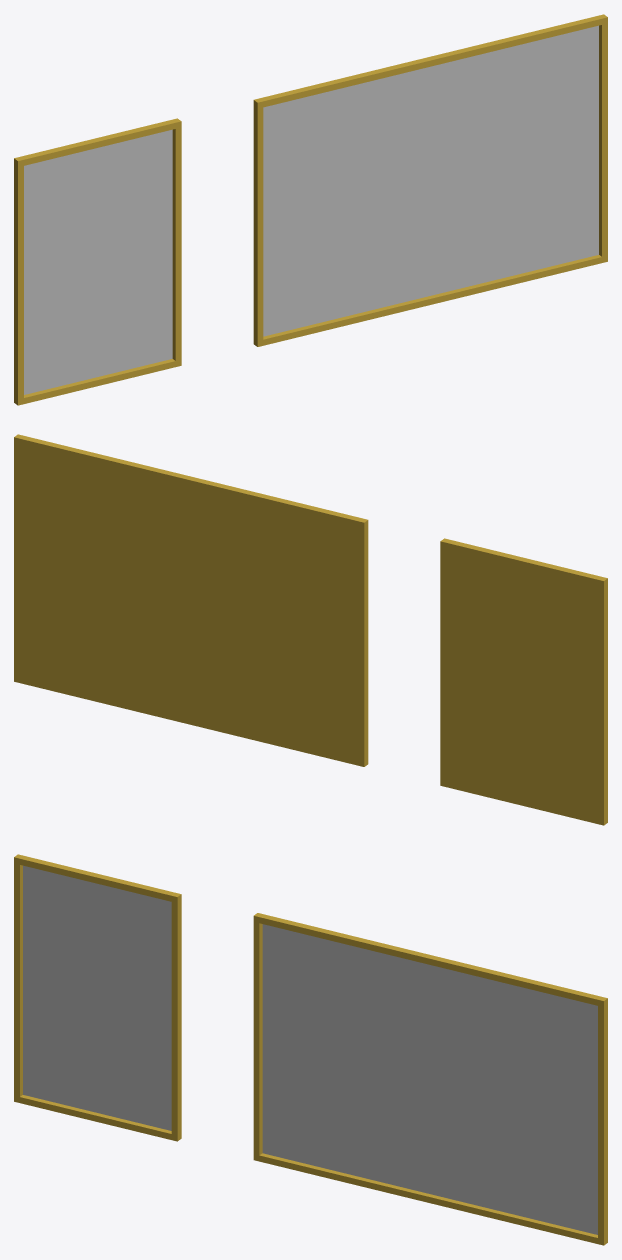
The model's file is Coffee Menus.fbx.
The picture shows the model from 3 angles, top to bottom: view 1: azimuth 30°, elevation 25°; view 2: azimuth 150°, elevation 25°; view 3: azimuth 330°, elevation 25°; orthographic projection.
Visible parts, largest first — view 1: Coffee_Menu_2, Coffee_Menu_1; view 2: Coffee_Menu_2, Coffee_Menu_1; view 3: Coffee_Menu_2, Coffee_Menu_1.
Part boxes in pixels (x1,y1,x2,y2): Coffee_Menu_2: (253,14,607,346); Coffee_Menu_1: (14,118,181,405); Coffee_Menu_2: (14,434,368,766); Coffee_Menu_1: (440,538,607,825); Coffee_Menu_2: (253,913,607,1245); Coffee_Menu_1: (14,854,181,1141).
Bounding box in the file's own units: 253 × 100 × 3.
